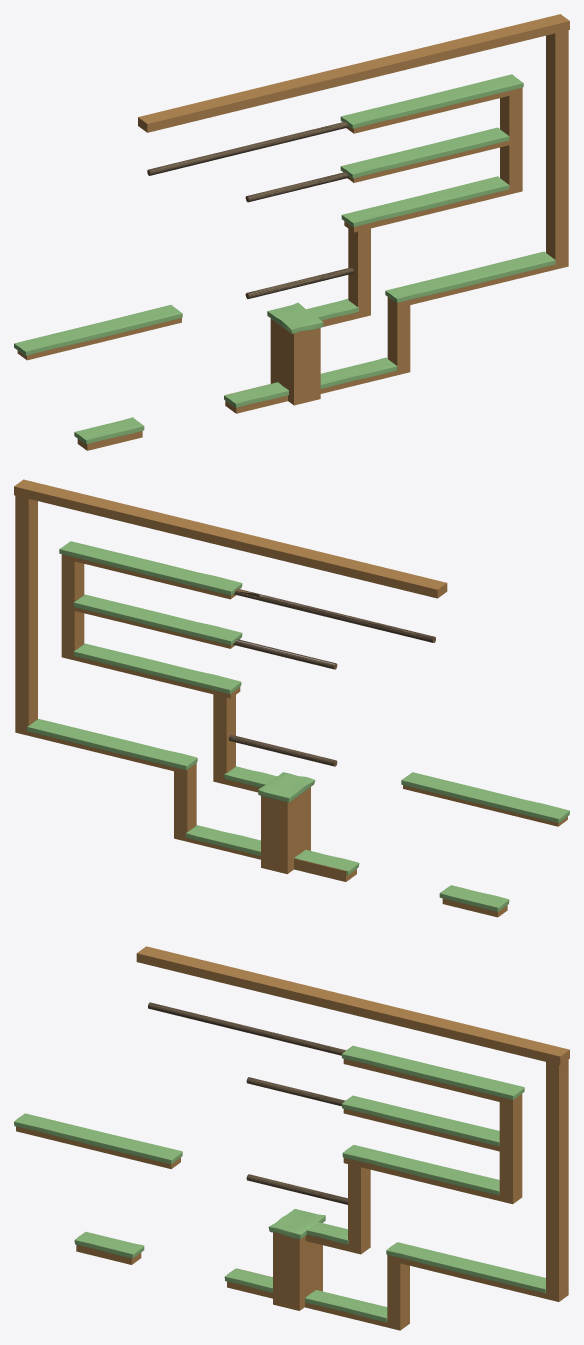
The picture shows the model from 3 angles, top to bottom: view 1: azimuth 30°, elevation 25°; view 2: azimuth 150°, elevation 25°; view 3: azimuth 330°, elevation 25°; orthographic projection.
Visible parts, largest first — view 1: pCube9, pCube10, pCube2, pCube17, pCube19, pCube16, pCube18, pCube15, pCube3, pCube11, pCylinder18, pCube20 (+12 smaller); view 2: pCube9, pCube10, pCube2, pCube17, pCube19, pCube18, pCube16, pCube15, pCube3, pCube11, pCylinder18, pCube5 (+10 smaller); view 3: pCube9, pCube10, pCube2, pCube17, pCube18, pCube19, pCube16, pCube15, pCube3, pCube11, pCylinder18, pCube5 (+12 smaller).
Boxes of the visible parts, x1,y1,x2,y2 form: pCube9: (138,14,569,132); pCube10: (403,30,568,306); pCube2: (225,318,320,413); pCube17: (340,74,523,128); pCube19: (385,251,555,302); pCube16: (340,127,509,178); pCube18: (14,305,182,355); pCube15: (341,176,509,227); pCube3: (322,228,370,327); pCube11: (320,297,410,393); pCylinder18: (147,121,348,175); pCube20: (320,357,397,388); pCube9: (14,479,447,598); pCube10: (15,489,181,772); pCube2: (261,787,356,881); pCube17: (59,541,242,595); pCube19: (27,719,197,770); pCube18: (401,772,569,823); pCube16: (73,594,242,645); pCube15: (73,643,241,694); pCube3: (213,690,260,792); pCube11: (174,763,260,859); pCylinder18: (233,588,435,642); pCube5: (61,599,116,670); pCube9: (136,946,569,1065); pCube10: (392,1059,568,1301); pCube2: (227,1232,322,1310); pCube17: (341,1045,524,1099); pCube18: (14,1113,182,1164); pCube19: (386,1242,545,1293); pCube16: (341,1095,499,1146); pCube15: (342,1145,499,1195); pCube3: (305,1164,370,1254); pCube11: (305,1255,409,1330); pCylinder18: (148,1002,345,1055); pCube5: (485,1140,522,1204).
Bounding box in the file's own units: 77.53 × 42.44 × 6.23.
